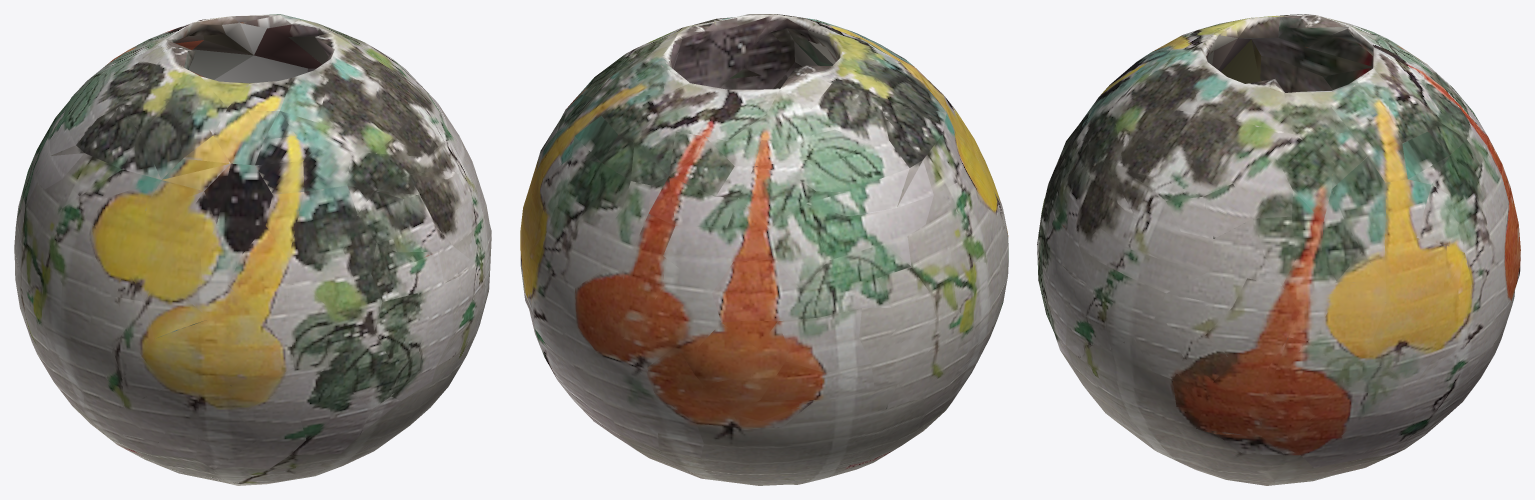
File: AT2 Rolex Squash1.glb
3 views of the same model, side by side, from view 1: azimuth 30°, elevation 25°; view 2: azimuth 150°, elevation 25°; view 3: azimuth 270°, elevation 25° (orthographic).
Size of the model in its own units: 998 by 959 by 1000.
1 material, 1 textured.
